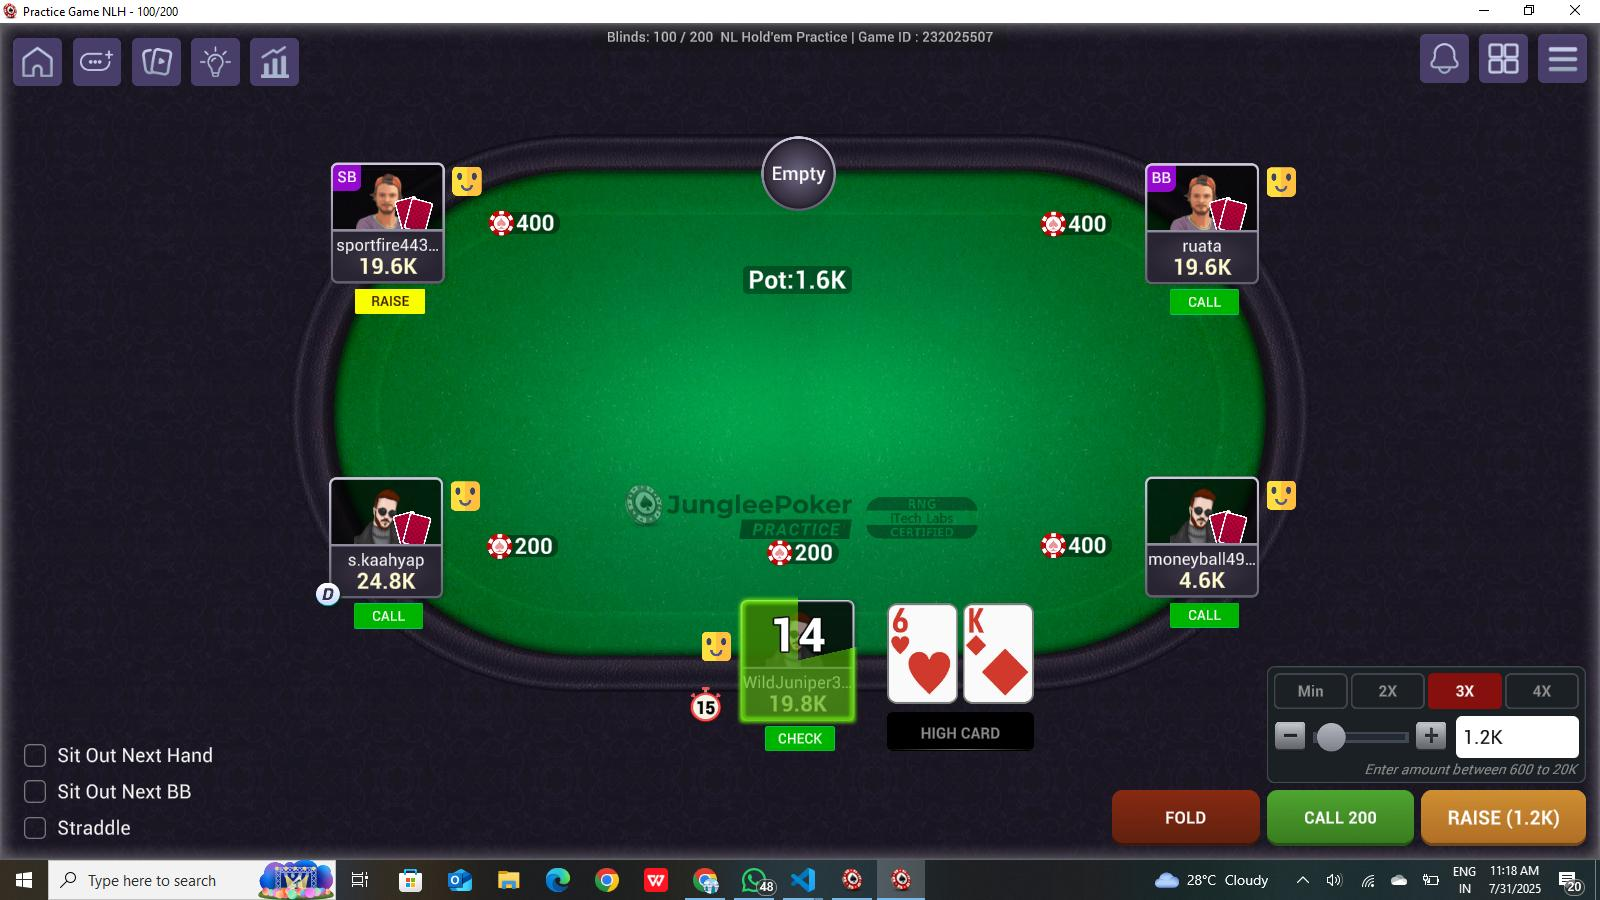button_call: (1267, 788, 1413, 845)
button_fold: (1112, 788, 1258, 846)
button_raise: (1423, 785, 1585, 852)
card1_rank: (890, 605, 930, 640)
card1_suite_heart: (905, 645, 957, 702)
card2_rank: (960, 603, 1009, 636)
card2_suite_diamond: (970, 638, 1030, 702)
iinput_field: (1455, 719, 1578, 760)
my_bet: (765, 533, 840, 570)
my_stack: (762, 690, 829, 722)
position_BB: (1145, 168, 1174, 191)
position_SB: (332, 164, 365, 193)
total_pot: (746, 264, 855, 297)
villian1_bet: (481, 529, 560, 562)
villian1_name: (332, 545, 440, 574)
villian1_stack: (348, 568, 423, 597)
villian2_bet: (485, 209, 568, 238)
villian2_name: (332, 235, 442, 255)
villian2_stack: (346, 255, 426, 280)
villian4_bet: (1033, 205, 1113, 240)
villian4_name: (1149, 229, 1257, 257)
villian4_stack: (1165, 257, 1242, 281)
villian5_bet: (1038, 525, 1116, 564)
villian5_name: (1146, 545, 1258, 571)
villian5_stack: (1162, 570, 1238, 600)
